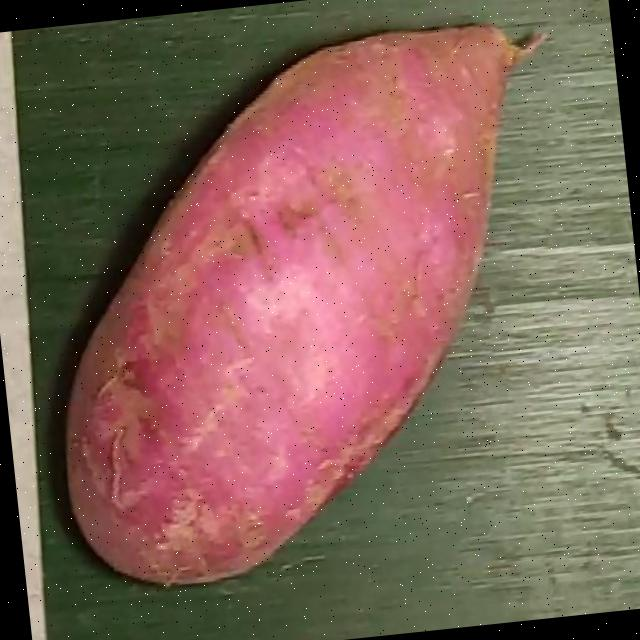Sweet Potato: (64, 24, 546, 590)
